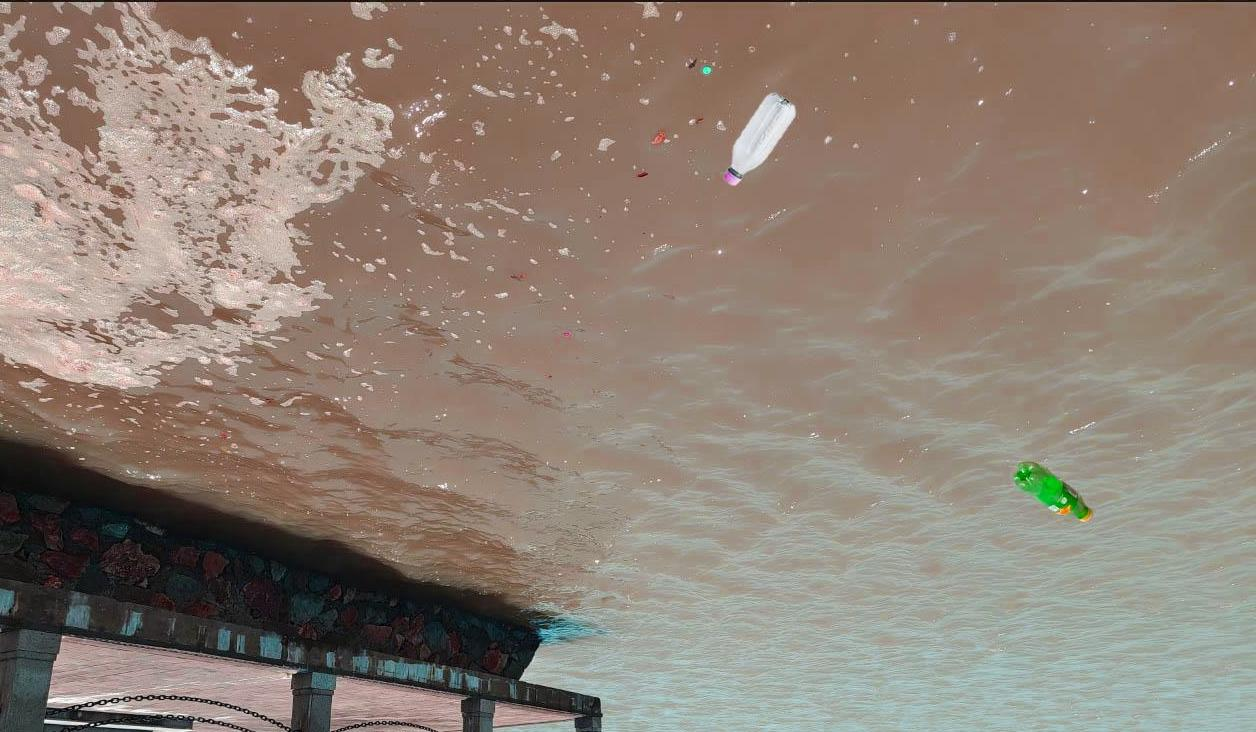Plastic: (722, 94, 797, 189), (1012, 459, 1093, 527)
